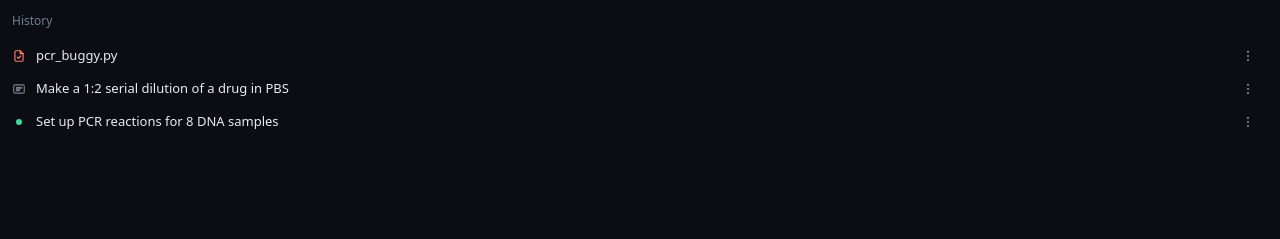
Test: History, the row menu › pins a row to the top, in this browser, and unpins it
Click the button named "More for Set up PCR reactions". click: click(1248, 122)
box: x1=1235 y1=109 x2=1261 y2=135
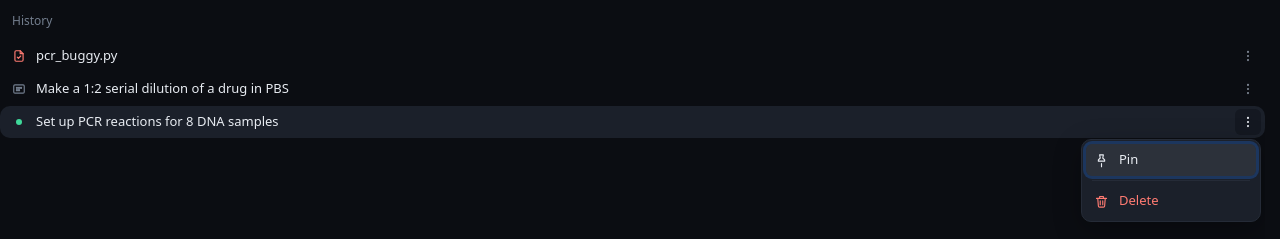
Click the menu item "Pin". click: click(1171, 160)
box: x1=1086 y1=144 x2=1256 y2=176
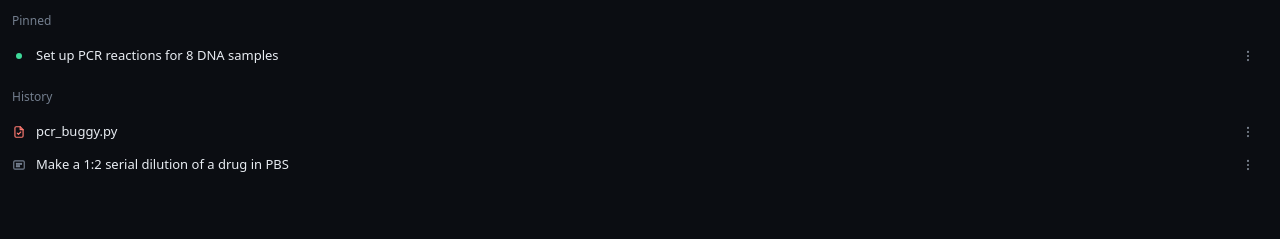
Check: the text "Pinned" is shown, box x1=12 y1=12 x2=51 y2=29
Click the button named "More for Set up PCR reactions". click: click(1248, 56)
box: x1=1235 y1=43 x2=1261 y2=69
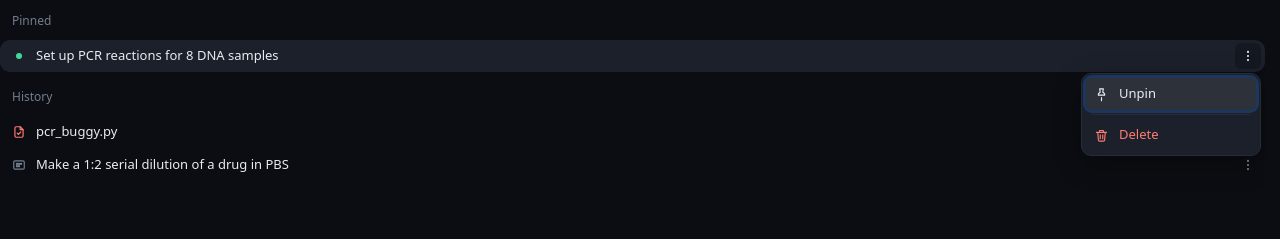
Click the menu item "Unpin". click: click(1171, 94)
box: x1=1086 y1=78 x2=1256 y2=110
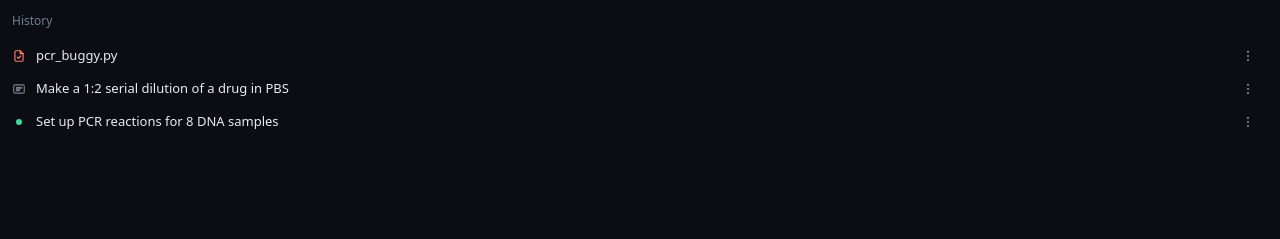
Check: the text "Pinned" is gone
